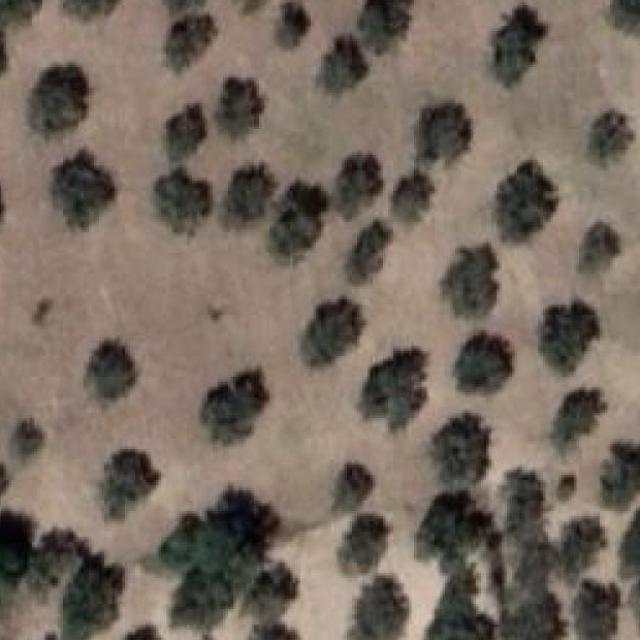Tree: (422, 557, 493, 640), (362, 349, 426, 432), (202, 368, 270, 446), (157, 516, 244, 576), (415, 490, 491, 558), (63, 554, 123, 640), (49, 150, 114, 229), (496, 160, 558, 241), (489, 5, 545, 88), (270, 181, 326, 262), (540, 299, 600, 374), (302, 298, 364, 367), (28, 67, 89, 136), (101, 449, 161, 518), (441, 245, 498, 317), (170, 568, 233, 630), (432, 416, 488, 485), (153, 169, 210, 236), (351, 575, 409, 640), (548, 390, 605, 454), (452, 334, 512, 394), (414, 101, 471, 163), (333, 155, 383, 220), (555, 516, 605, 581), (245, 562, 297, 622), (214, 78, 264, 140), (162, 16, 215, 74), (337, 516, 388, 575), (85, 340, 135, 400), (223, 165, 275, 222), (317, 36, 367, 95), (344, 220, 390, 284), (358, 0, 411, 55), (0, 511, 29, 604), (602, 444, 640, 509), (163, 103, 204, 162), (579, 581, 620, 640), (504, 474, 543, 536), (392, 170, 435, 224), (586, 111, 633, 160), (331, 462, 373, 510), (579, 224, 618, 274), (274, 2, 310, 49), (10, 418, 44, 463), (617, 509, 638, 576), (0, 0, 43, 27), (65, 0, 123, 20), (249, 619, 300, 640), (612, 0, 640, 33), (166, 0, 215, 13), (130, 624, 166, 640), (0, 464, 10, 507), (558, 474, 574, 500), (0, 24, 6, 78)
